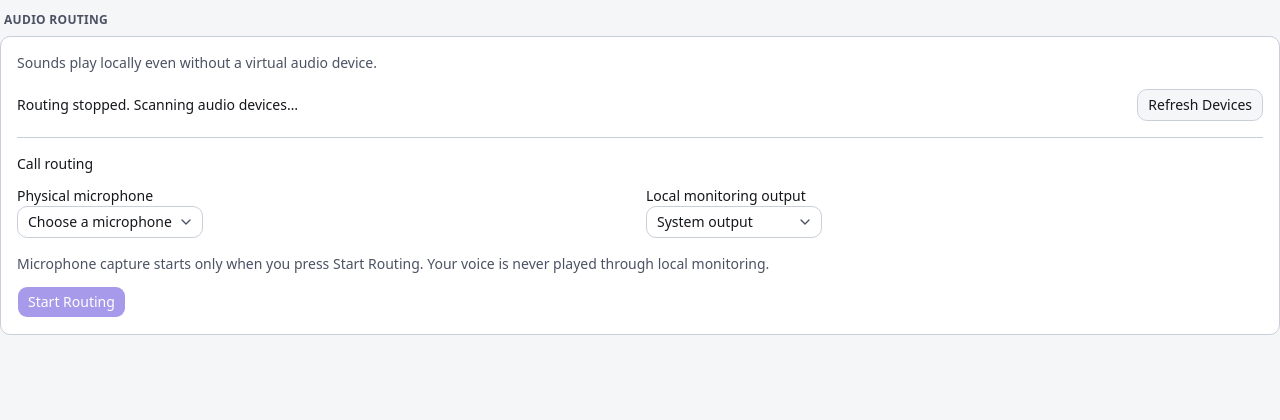
Scenario: audio routing onboarding › ignores a late earlier refresh response
Click the button "Refresh Devices": (1200,105) x1=1137 y1=89 x2=1263 y2=121
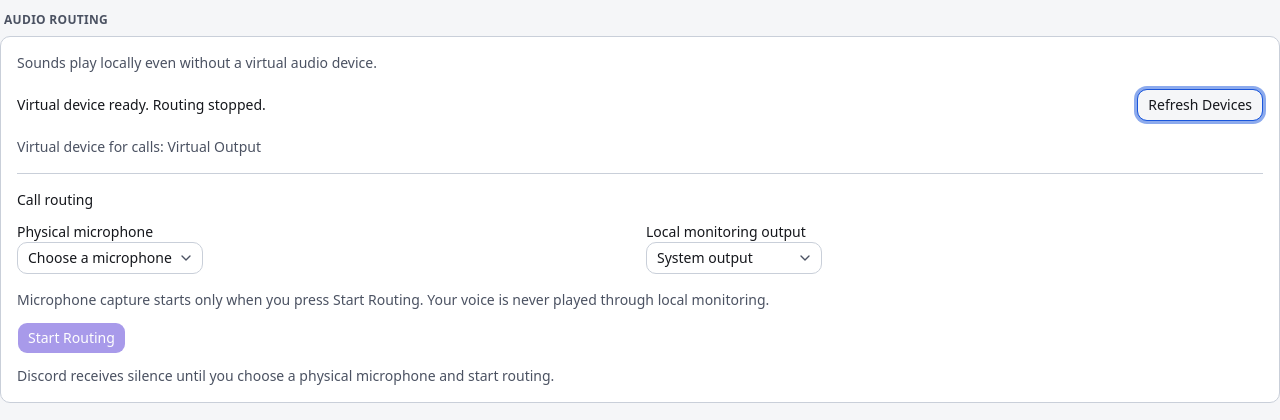
Check: the message shows "Virtual device ready", box x1=17 y1=95 x2=266 y2=114
Check: the text "Virtual device for calls: Virtual Output" is shown, box x1=17 y1=137 x2=261 y2=156
